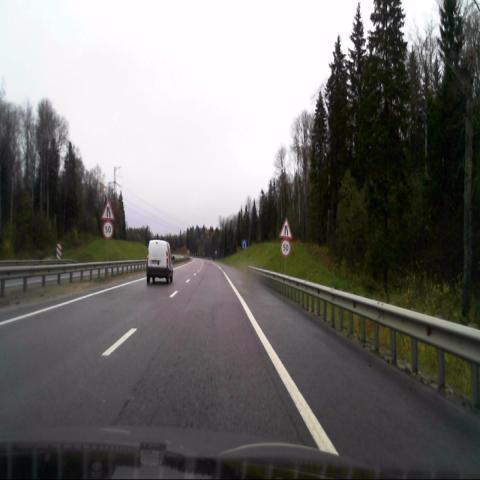1_20_2: (280, 216, 292, 238), (102, 199, 114, 220)
